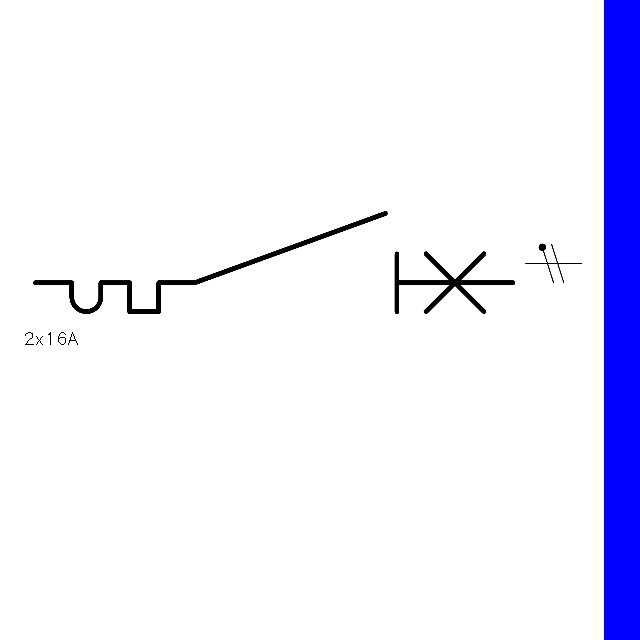interruptor_termomagnetico: (23, 201, 525, 324)
